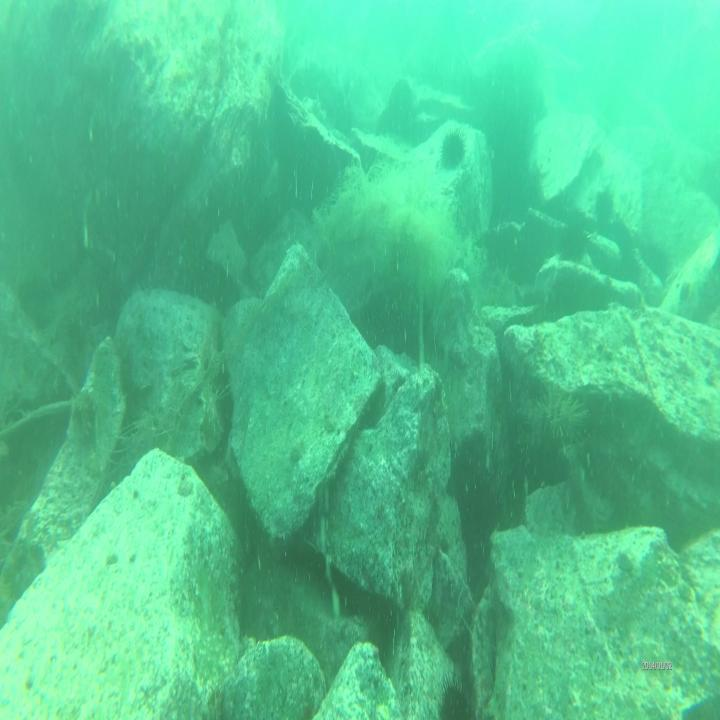echinus: (534, 384, 588, 456), (436, 679, 471, 720), (442, 124, 468, 169), (592, 184, 617, 222)
